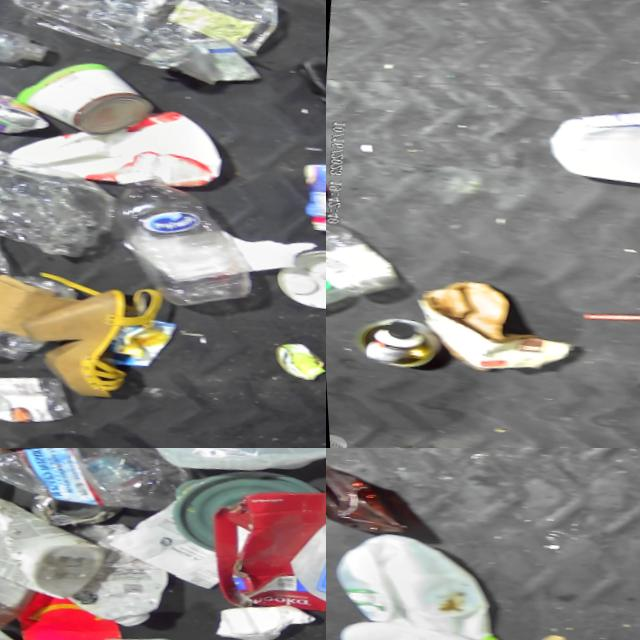can: (8, 53, 160, 148), (346, 310, 437, 373), (0, 85, 51, 142), (264, 343, 324, 389)
milk_jug: (0, 90, 227, 202), (326, 523, 508, 640), (539, 96, 640, 207), (134, 448, 326, 491), (274, 485, 326, 627), (326, 611, 514, 640)
non_white_jug: (286, 43, 326, 120)
plastic_bottle: (91, 165, 263, 322), (0, 448, 195, 525), (0, 269, 80, 370)
